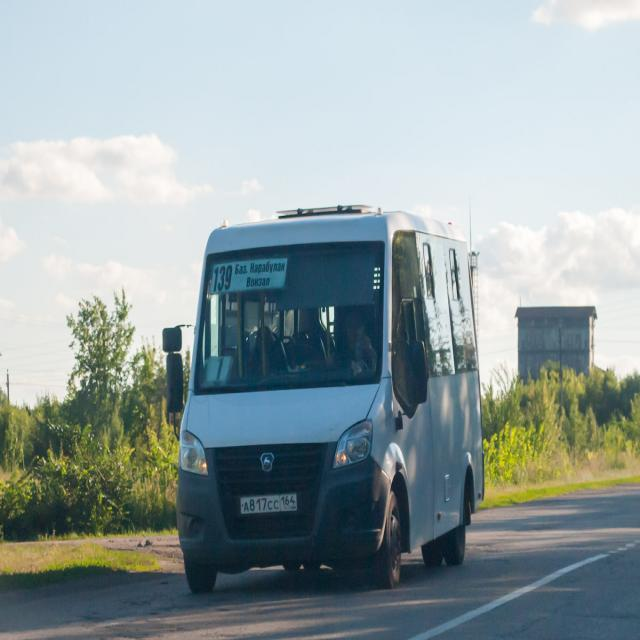number-of-bus: (213, 266, 235, 292)
